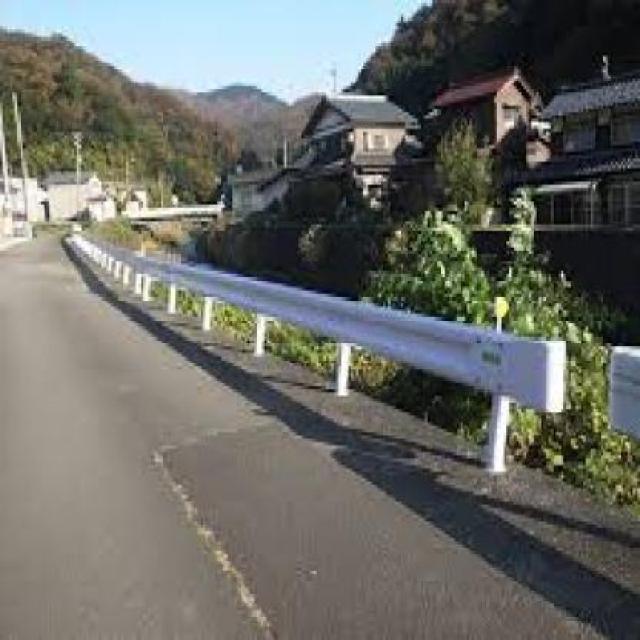Guard rail: (72, 218, 570, 490)
